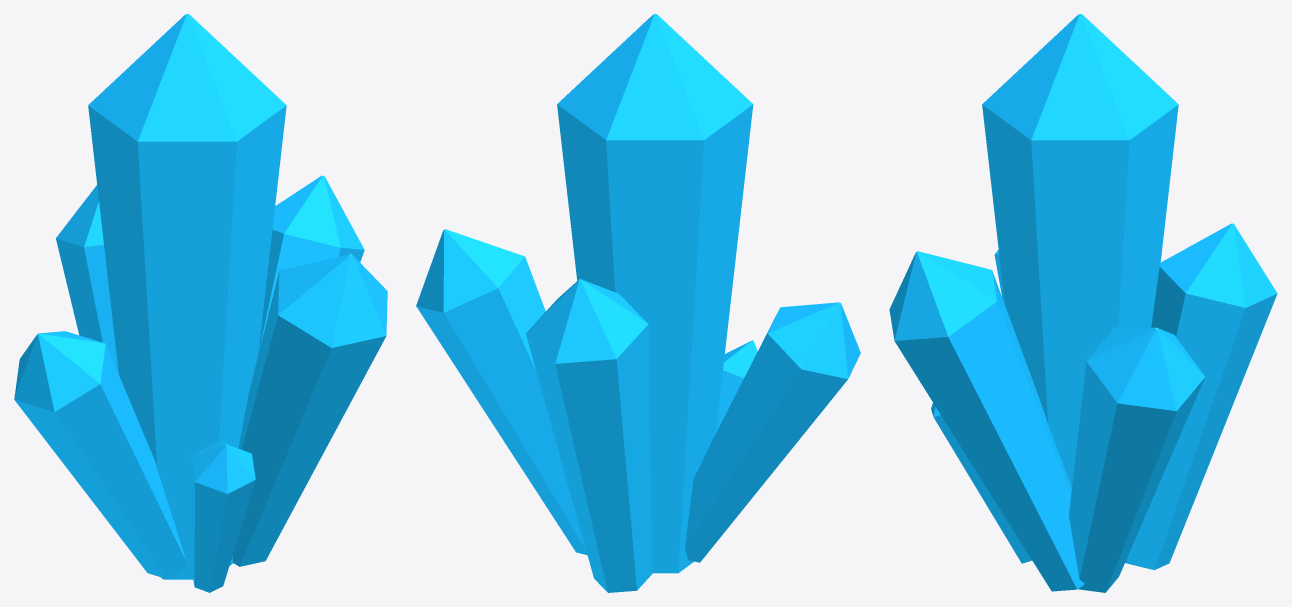
Rendered from cristal minerio.fbx.
3 renders of one model, left to right at view 1: azimuth 30°, elevation 25°; view 2: azimuth 150°, elevation 25°; view 3: azimuth 270°, elevation 25°, orthographic.
Parts seen in each view (by area): view 1: cristais mineirios; view 2: cristais mineirios; view 3: cristais mineirios.
Boxes of the visible parts, box(x1,y1,x2,y2) form: cristais mineirios: box(14, 14, 387, 592); cristais mineirios: box(416, 14, 860, 592); cristais mineirios: box(889, 14, 1277, 592).
Size of the model in its own units: 442 by 616 by 395.
